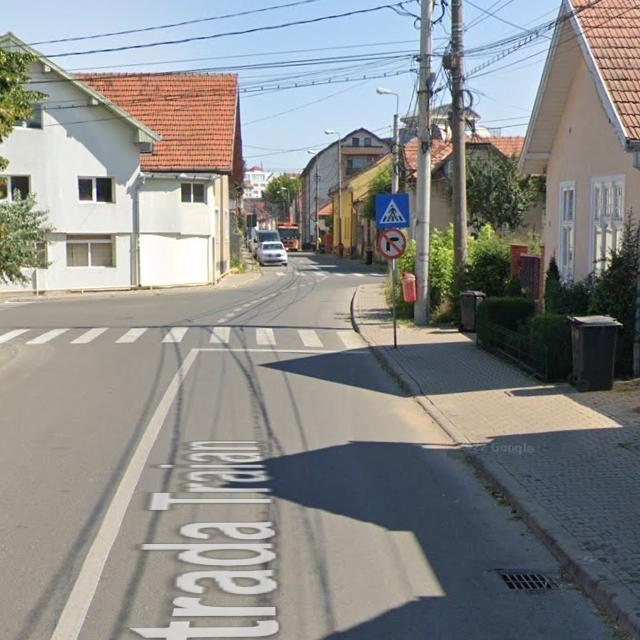info_crosswalk: (375, 193, 410, 228)
